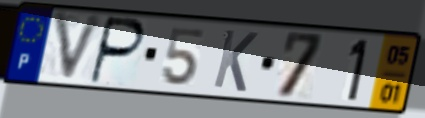1: (345, 37, 370, 103)
5: (158, 25, 208, 88)
7: (278, 29, 328, 101)
K: (210, 27, 261, 95)
P: (86, 14, 148, 87)
V: (51, 10, 108, 87)
